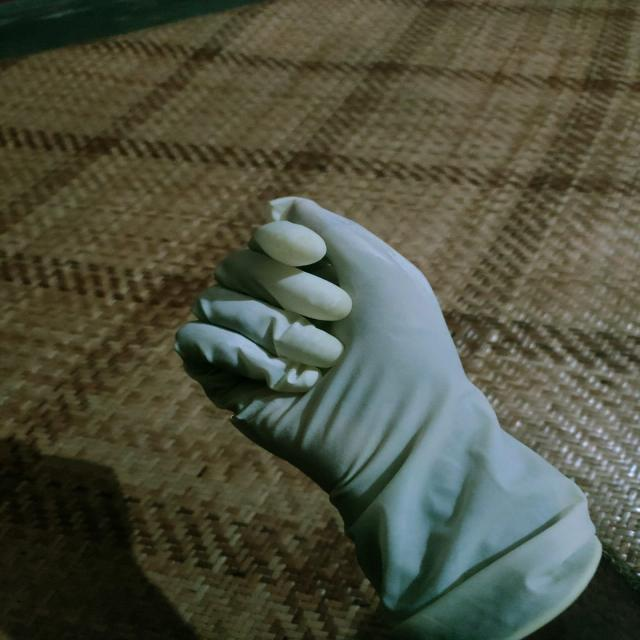glove: (170, 194, 607, 639)
